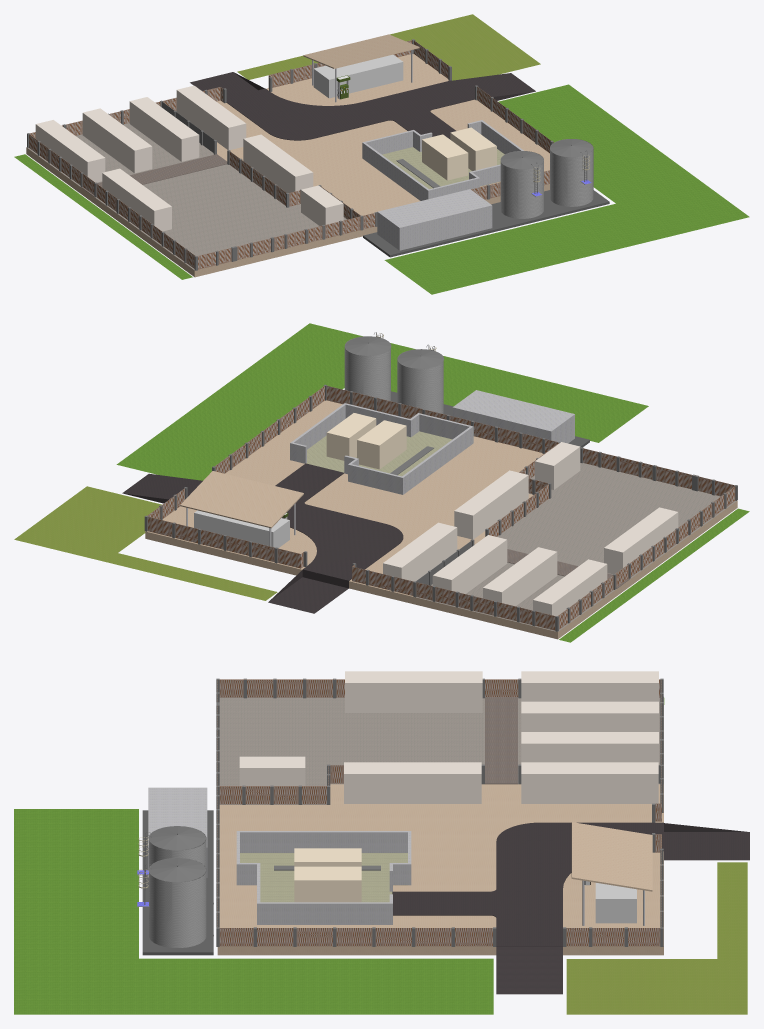
Rendered from Zone03.glb.
The picture shows the model from 3 angles, top to bottom: view 1: azimuth 30°, elevation 25°; view 2: azimuth 150°, elevation 25°; view 3: azimuth 270°, elevation 25°; orthographic projection. The views are drawn at different scales.
Visible parts, largest first — view 1: object 1, object 103, object 12, object 101, Component#19 (×2), object 147, object 2, object 93, object 7, object 8, object 9, object 106 (+18 smaller); view 2: object 1, object 103, object 101, object 12, Component#19 (×2), object 2, object 93, object 149, object 147, object 106, object 91, object 8 (+16 smaller); view 3: object 103, object 1, object 101, object 12, object 2, Component#19 (×2), object 9, object 10, object 106, object 94, object 149, object 8 (+15 smaller).
Boxes of the visible parts, box(x1,y1,x2,y2) form: object 1: box(26, 54, 549, 277); object 103: box(384, 84, 749, 294); object 12: box(226, 80, 474, 140); object 101: box(237, 14, 540, 80); Component#19 (×2): box(500, 139, 593, 218); object 147: box(377, 189, 492, 250); object 2: box(362, 120, 523, 200); object 93: box(197, 170, 549, 269); object 7: box(82, 108, 152, 173); object 8: box(129, 97, 199, 161); object 9: box(176, 85, 246, 150); object 106: box(243, 134, 313, 192); object 1: box(145, 400, 737, 639); object 103: box(116, 323, 648, 480); object 101: box(14, 486, 277, 600); object 12: box(275, 463, 403, 580); Component#19 (×2): box(344, 332, 443, 413); object 2: box(290, 403, 473, 494); object 93: box(326, 386, 734, 496); object 149: box(180, 471, 303, 528); object 147: box(452, 390, 574, 443); object 106: box(454, 470, 528, 539); object 91: box(352, 564, 555, 630); object 8: box(432, 535, 507, 593); object 103: box(14, 809, 493, 1014); object 1: box(217, 697, 663, 955); object 101: box(566, 862, 747, 1014); object 12: box(392, 822, 663, 946); object 2: box(236, 831, 411, 924); Component#19 (×2): box(136, 826, 206, 947); object 9: box(521, 762, 658, 803); object 10: box(345, 671, 482, 712); object 106: box(344, 762, 481, 803); object 94: box(219, 928, 492, 946); object 149: box(571, 822, 652, 891); object 8: box(521, 732, 658, 764).
Bounding box in the file's own units: 67.52 × 7.41 × 66.3.
29 materials, 11 textured.
